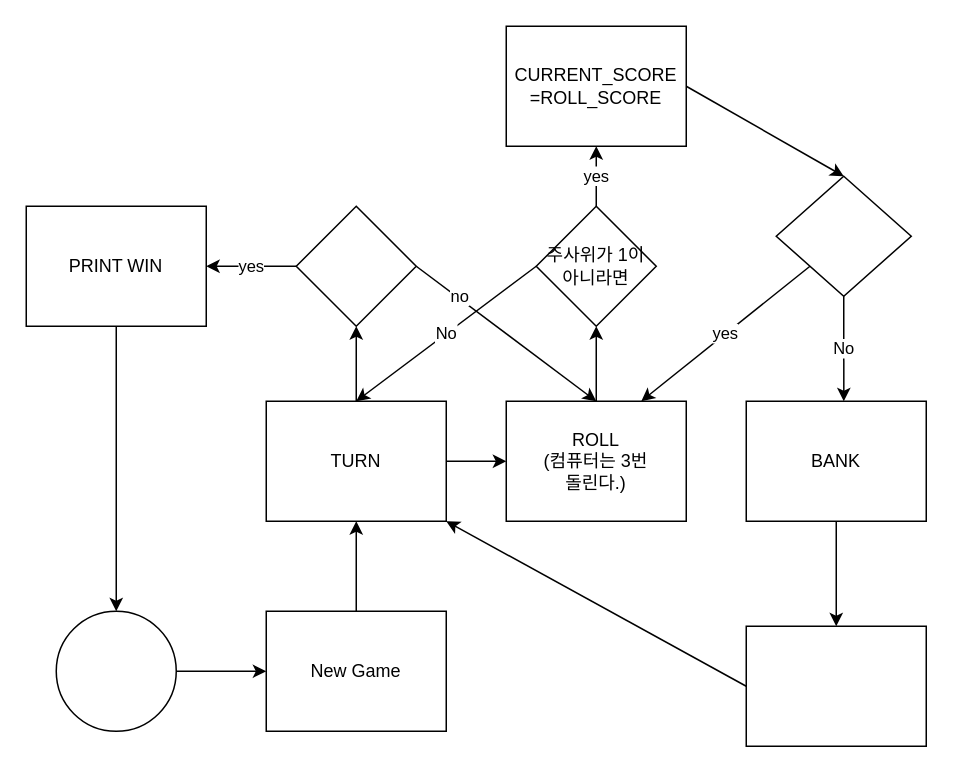
The diagram is 953 pixels wide and 773 high, and some of its shapes have lost their labels. The shapes that lost their labels are listed below. From the top down, each one's centre as x and y in pixels, then its label:
(843,235): 주사위를 더 돌릴 건가요?
(355,265): TOTAL_SCORE >=100
(115,670): 시작
(835,685): TOTAL_SCORE =CURRENT_SCORE
